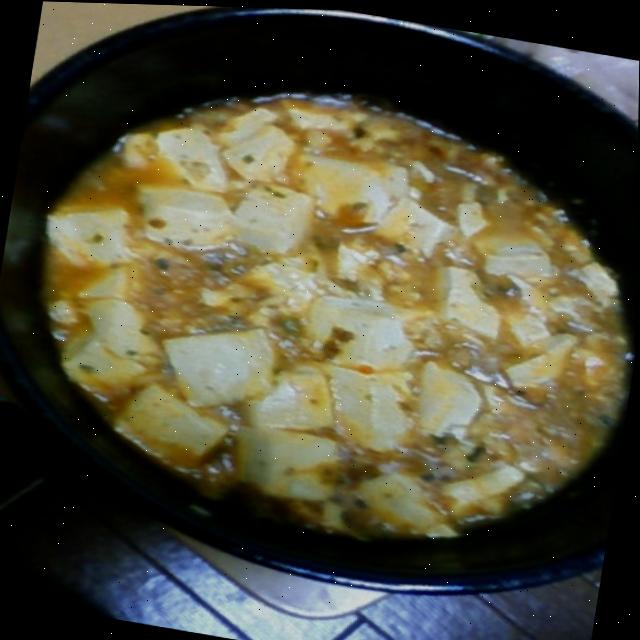豆腐料理: (22, 39, 640, 586)
